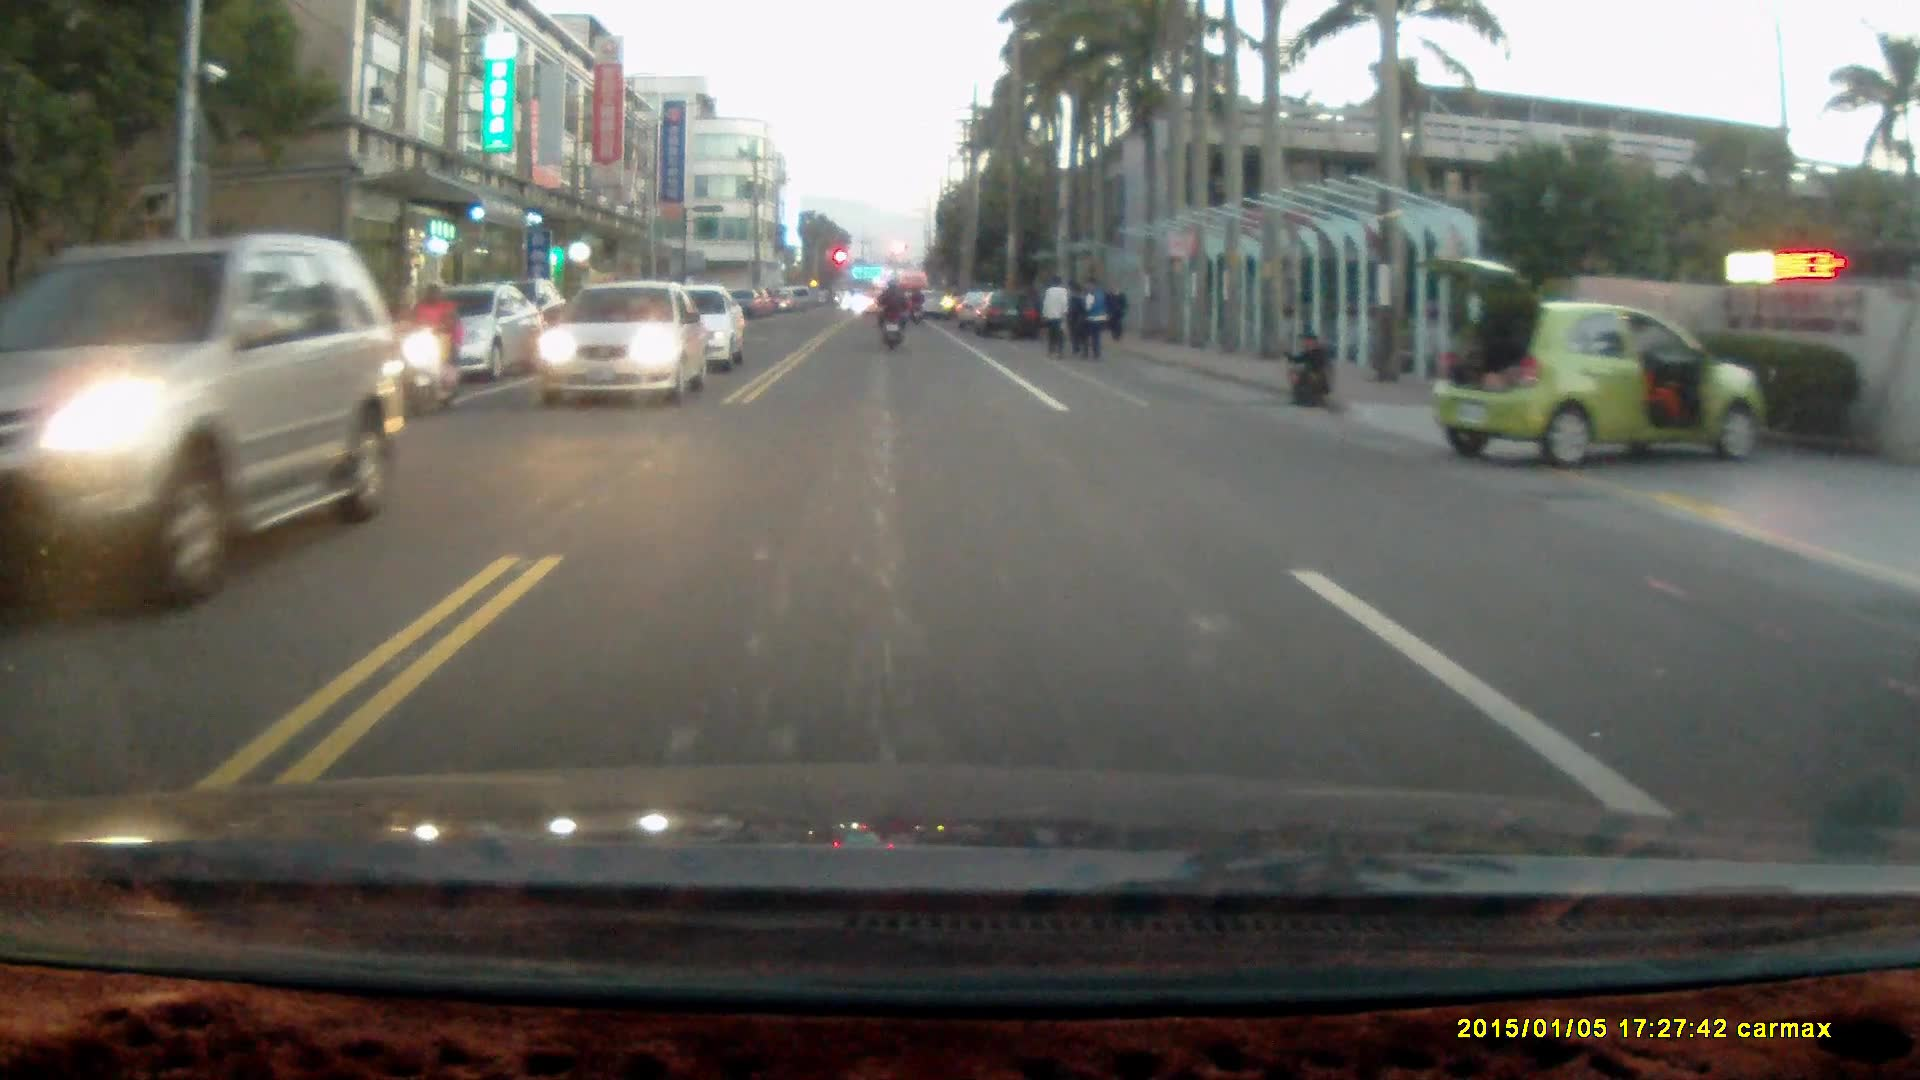pedestrian: (1282, 329, 1336, 410), (1071, 275, 1109, 362), (1040, 274, 1068, 361), (1060, 282, 1088, 365), (1103, 278, 1127, 339)
rider: (406, 280, 467, 420), (873, 277, 908, 354)
vehicle: (1, 234, 418, 622), (1420, 257, 1773, 470), (532, 281, 707, 416), (415, 286, 542, 393), (643, 284, 747, 376), (969, 291, 1041, 341)
